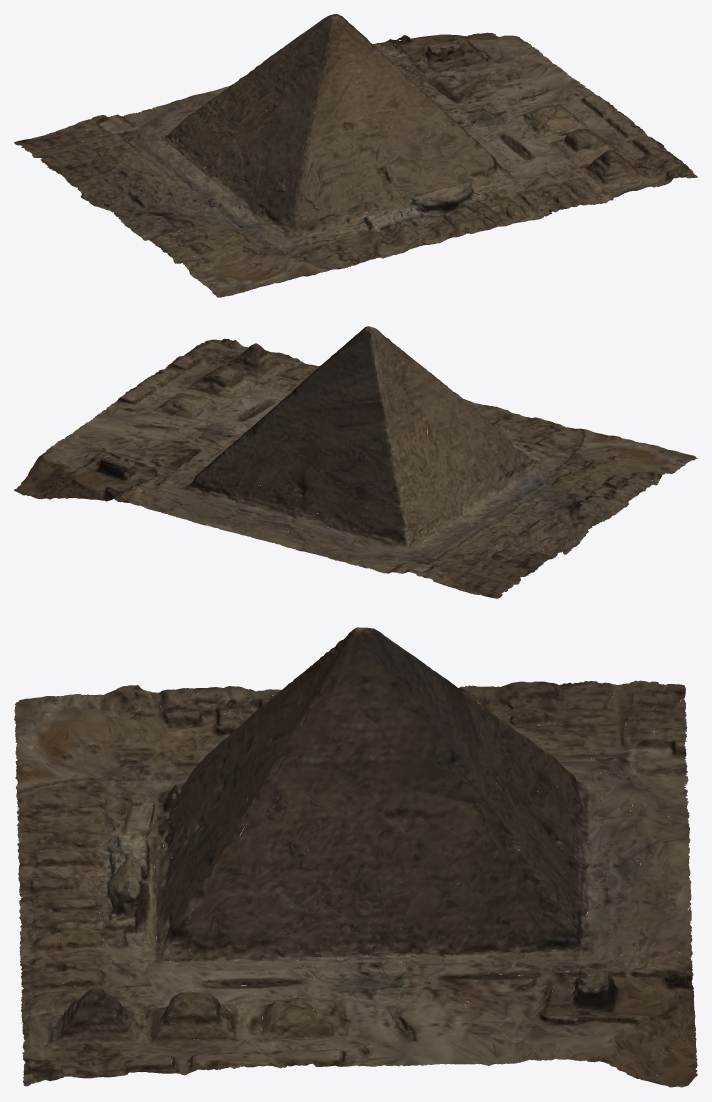
3 renders of one model, top to bottom at view 1: azimuth 30°, elevation 25°; view 2: azimuth 150°, elevation 25°; view 3: azimuth 270°, elevation 25°, orthographic. The views are drawn at different scales.
Parts seen in each view (by area): view 1: mat-0; view 2: mat-0; view 3: mat-0.
Boxes of the visible parts, x1,y1,x2,y2 form: mat-0: [14, 14, 697, 297]; mat-0: [14, 326, 697, 598]; mat-0: [14, 627, 697, 1087].
Size of the model in its own units: 3.99 by 1.23 by 2.95.
Materials: 1 (1 with a texture image).
